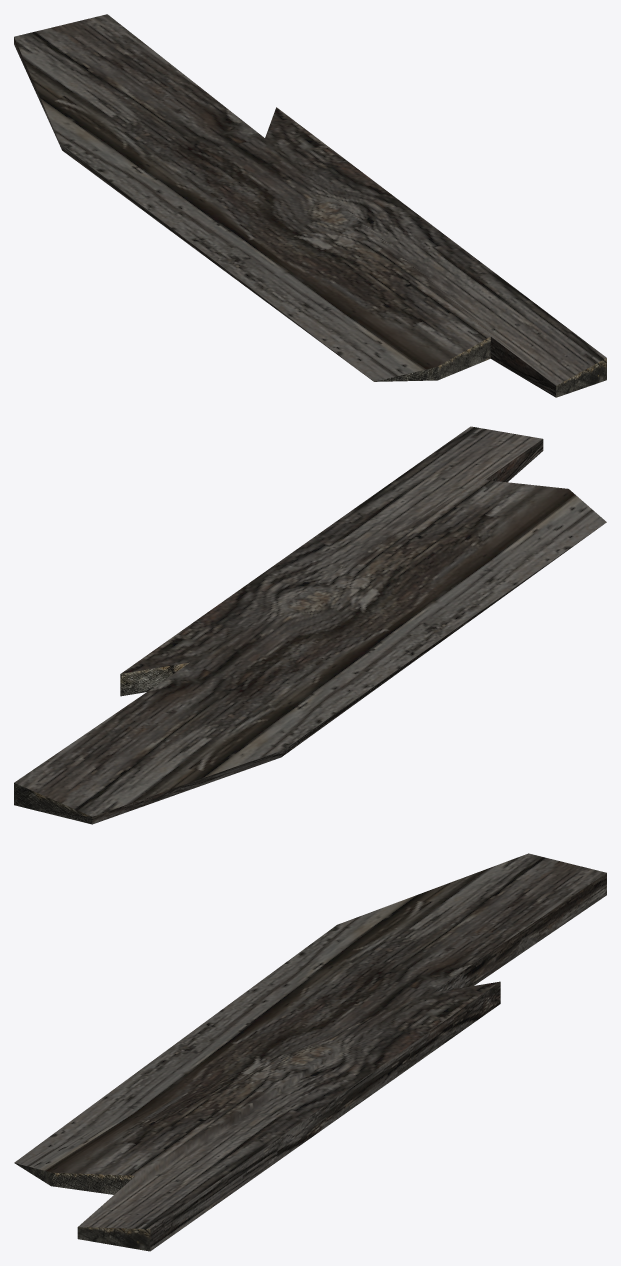
The model's file is Wood_el5A_LOD1.fbx.
The picture shows the model from 3 angles, top to bottom: view 1: azimuth 30°, elevation 25°; view 2: azimuth 150°, elevation 25°; view 3: azimuth 330°, elevation 25°; orthographic projection.
Parts seen in each view (by area): view 1: polySurface121; view 2: polySurface121; view 3: polySurface121.
Part boxes in pixels (left/top/right/bottom): polySurface121: left=14, top=14, right=606, bottom=397; polySurface121: left=14, top=426, right=606, bottom=824; polySurface121: left=14, top=853, right=606, bottom=1251.
Bounding box in the file's own units: 0.3609 × 0.0398 × 1.6.
